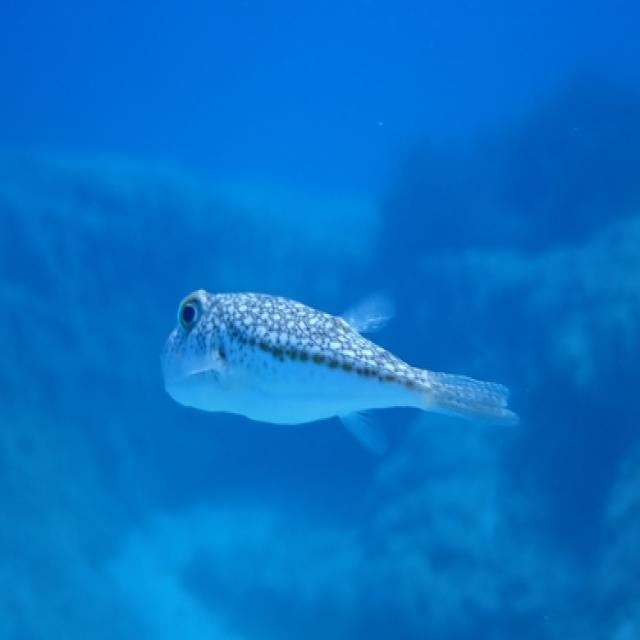Balik: (162, 291, 517, 452)
